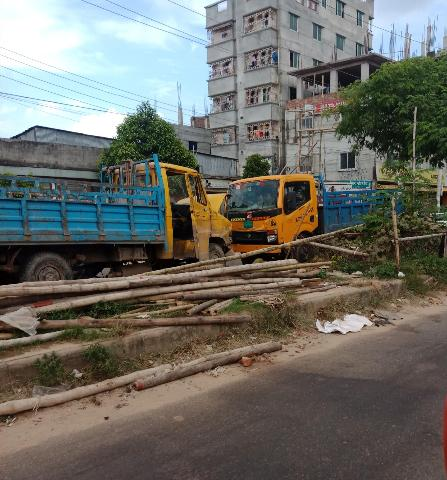truck: (0, 155, 232, 275), (227, 171, 396, 246)
